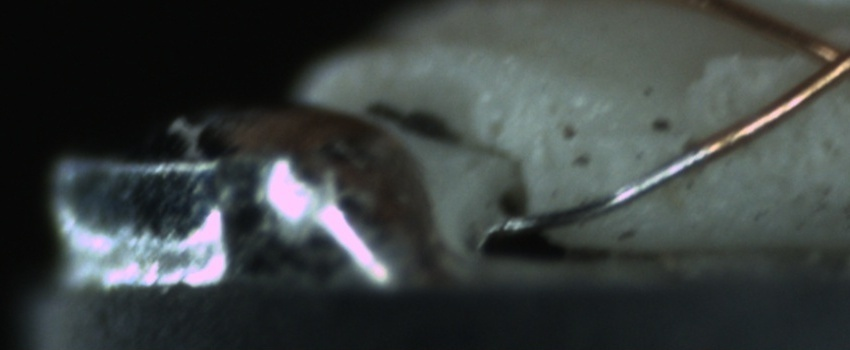CL: (797, 20, 849, 99)
TS: (498, 143, 704, 241)
